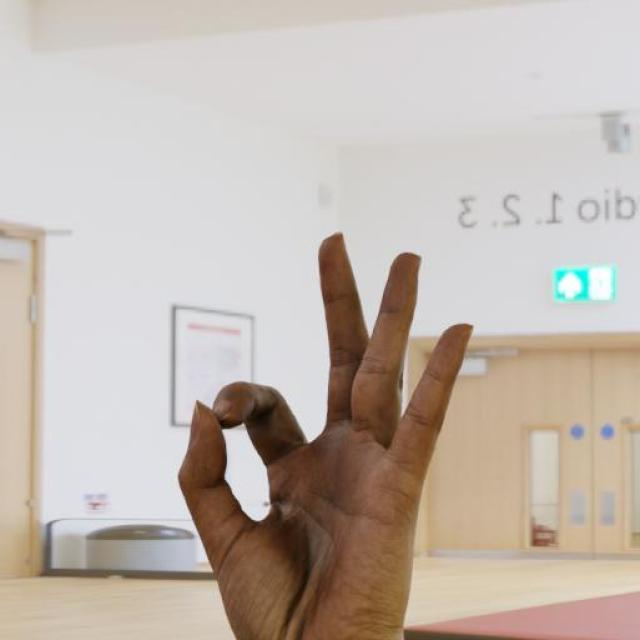F: (170, 229, 480, 640)
